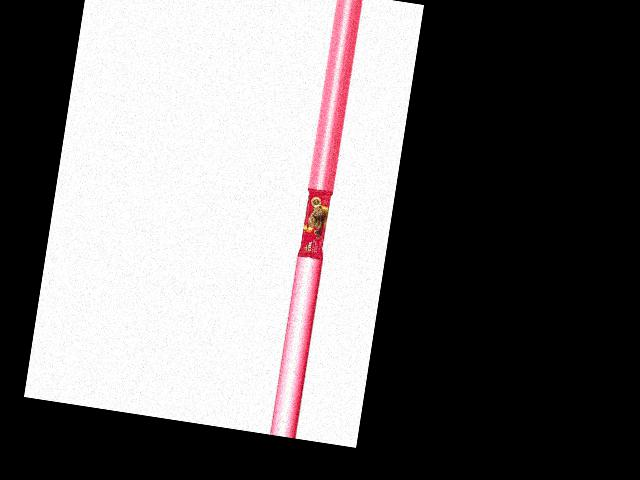chocolate: (298, 189, 335, 261)
